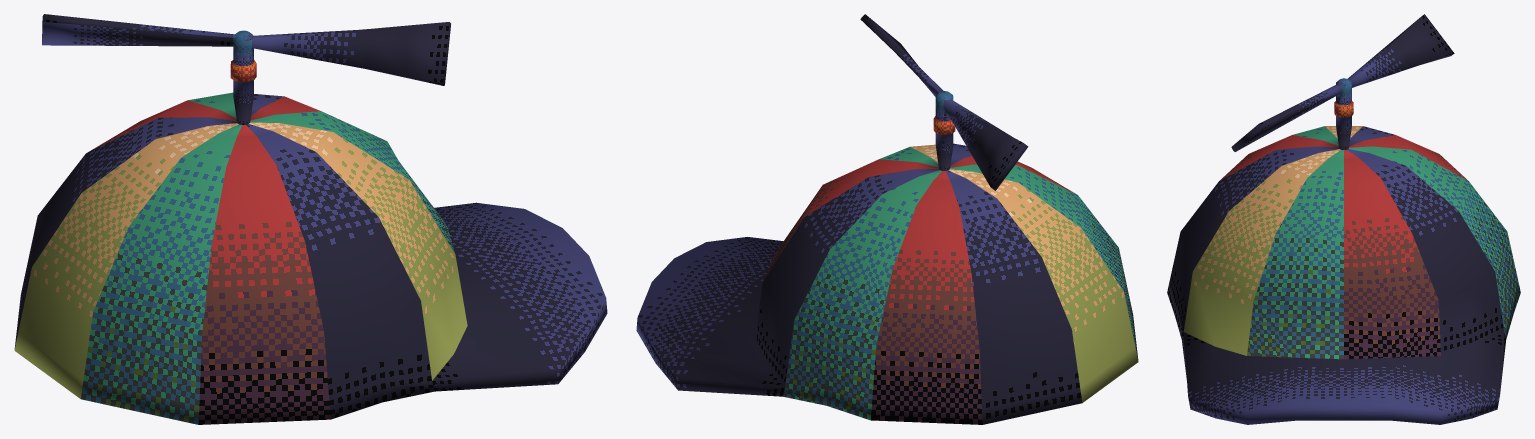
Rendered from Juniper.gltf.
3 views of the same model, side by side, from view 1: azimuth 30°, elevation 25°; view 2: azimuth 150°, elevation 25°; view 3: azimuth 270°, elevation 25° (orthographic). The views are drawn at different scales.
Parts seen in each view (by area): view 1: Juniper; view 2: Juniper; view 3: Juniper.
Part boxes in pixels (x1,y1,x2,y2): Juniper: [14, 14, 607, 424]; Juniper: [636, 14, 1138, 424]; Juniper: [1167, 14, 1520, 424].
Bounding box in the file's own units: 3.05 × 1.94 × 2.38.
Materials: 1 (1 with a texture image).
